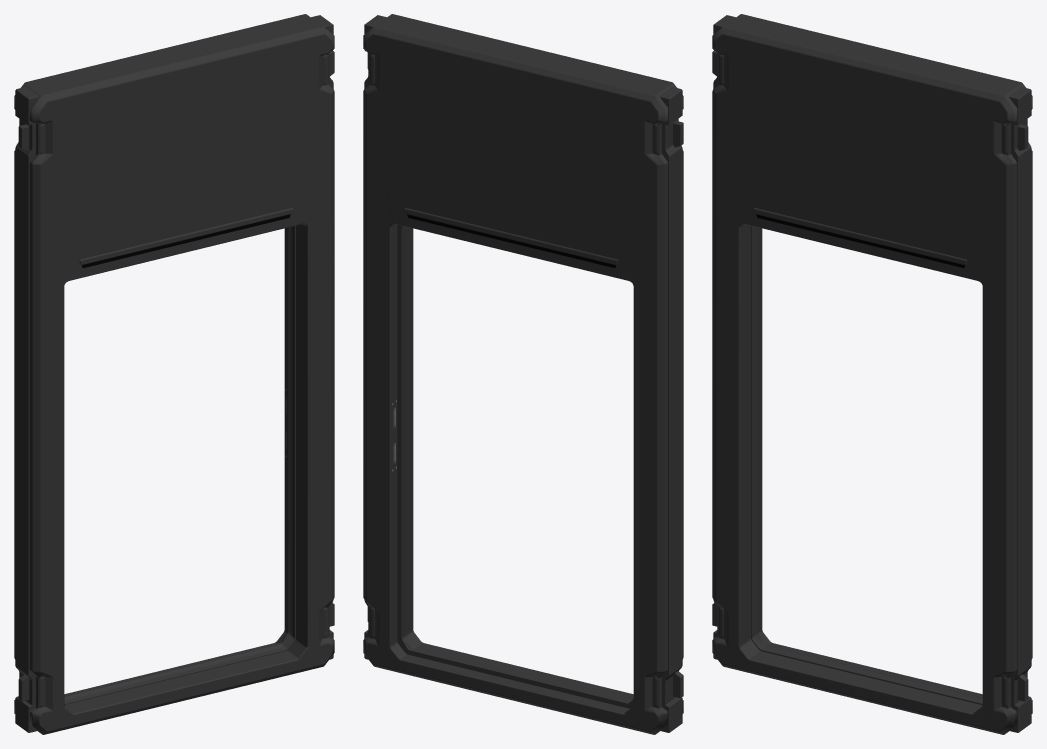
Rendered from SM_Wall_Door_Single_Sec1.FBX.
The picture shows the model from 3 angles, left to right: view 1: azimuth 30°, elevation 25°; view 2: azimuth 150°, elevation 25°; view 3: azimuth 330°, elevation 25°; orthographic projection.
Parts seen in each view (by area): view 1: SM_Wall_Door_Single_Sec1_LOD0; view 2: SM_Wall_Door_Single_Sec1_LOD0; view 3: SM_Wall_Door_Single_Sec1_LOD0.
Part boxes in pixels (x1,y1,x2,y2): SM_Wall_Door_Single_Sec1_LOD0: [14, 14, 334, 734]; SM_Wall_Door_Single_Sec1_LOD0: [363, 14, 683, 734]; SM_Wall_Door_Single_Sec1_LOD0: [712, 14, 1032, 734].
Size of what is drawn, in the model's own units: 154 by 21.81 by 300.
